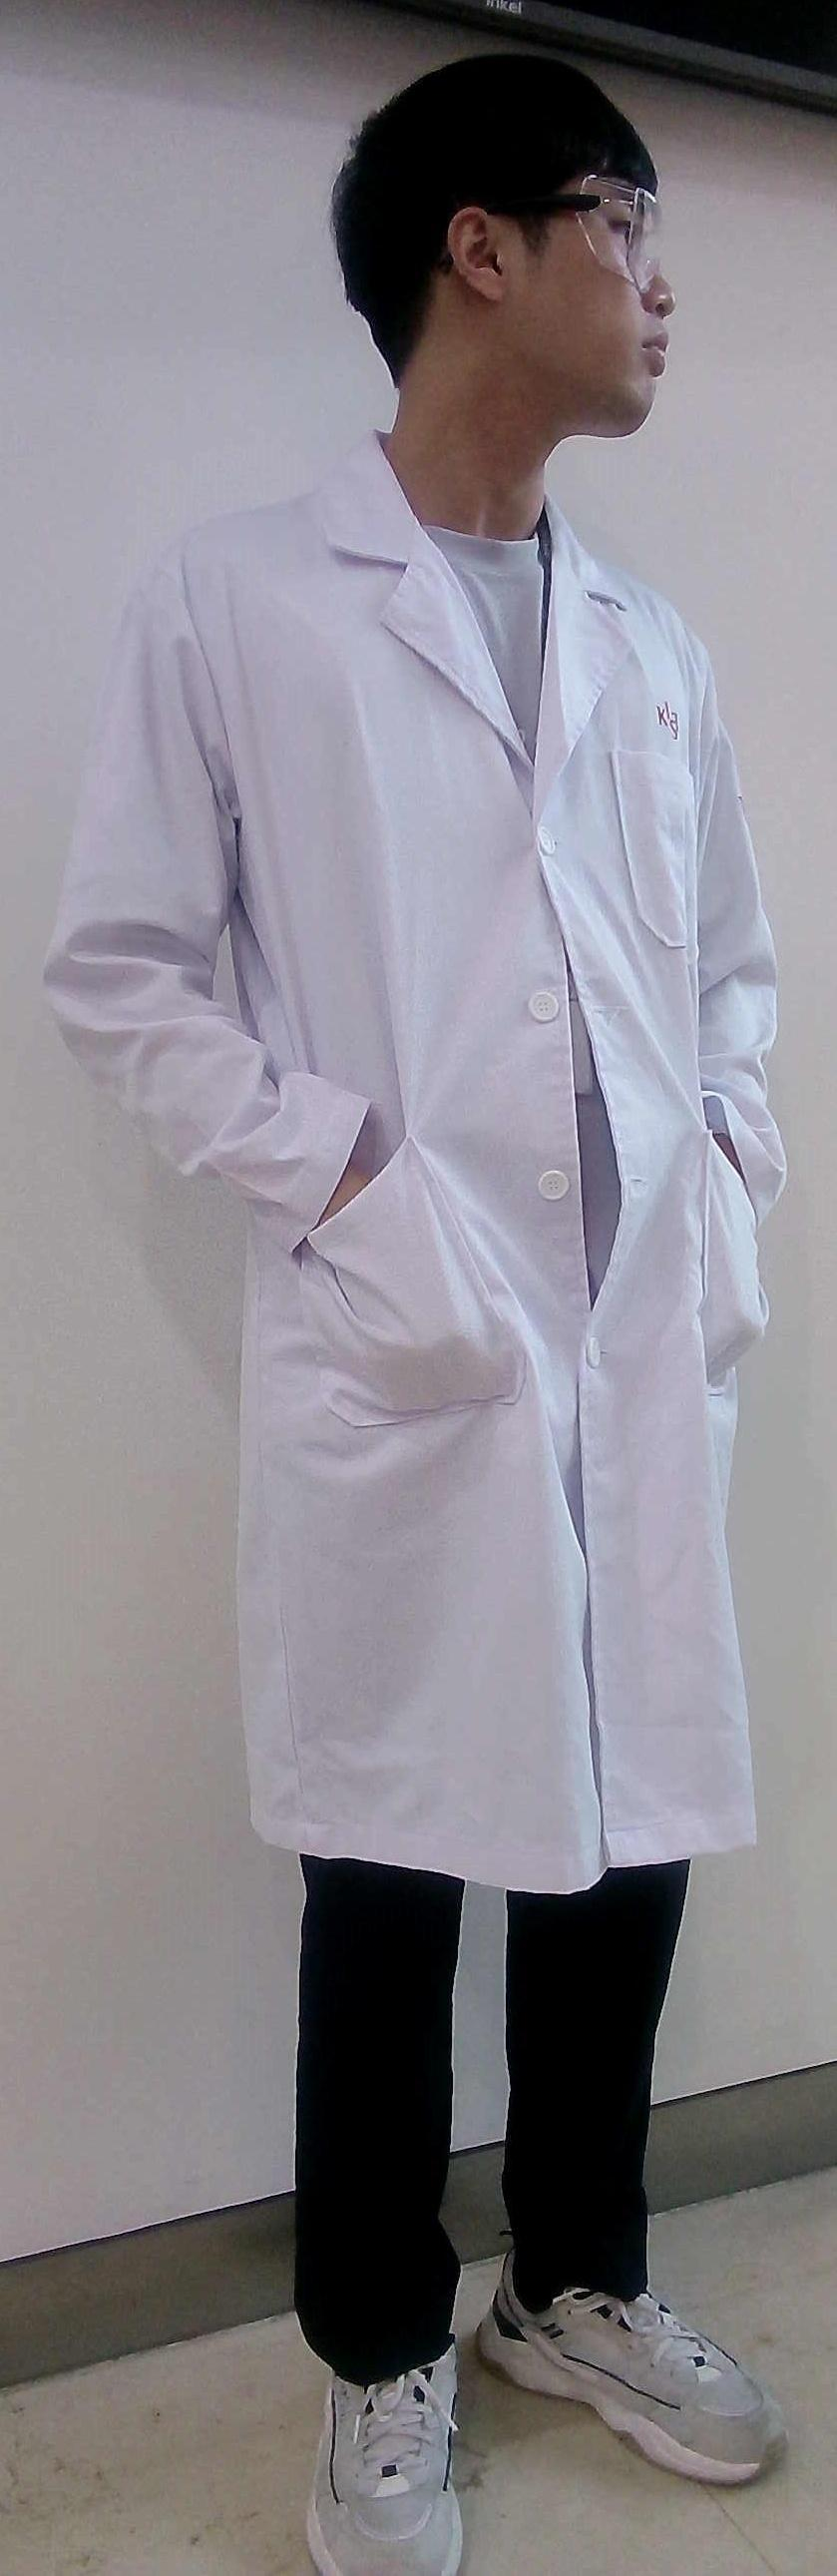lab_coat: (51, 504, 824, 1856)
